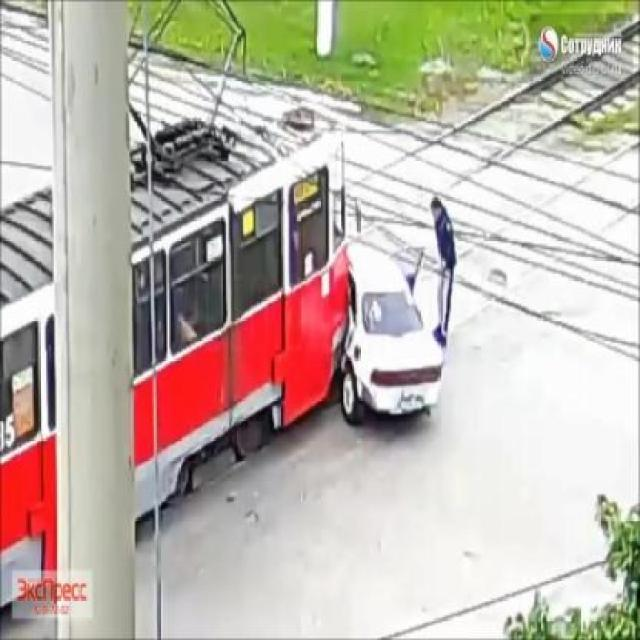accident: (206, 102, 442, 433)
